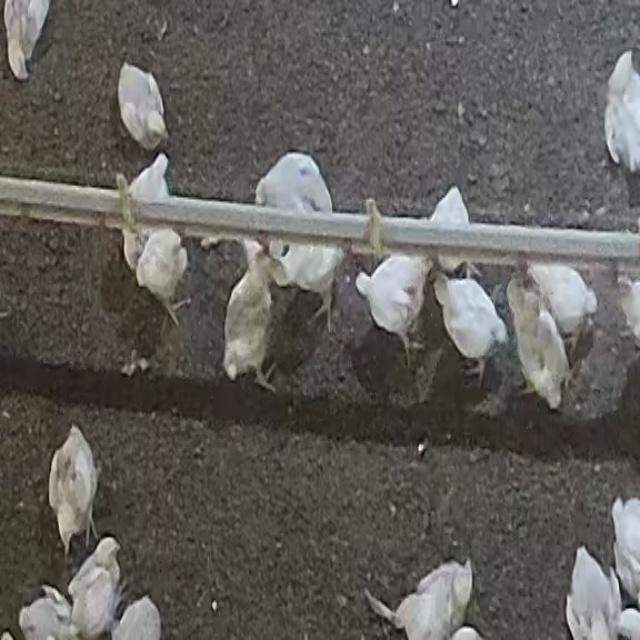chicken: (252, 207, 342, 323), (365, 557, 474, 639), (431, 269, 508, 383), (219, 252, 283, 387), (509, 284, 569, 408), (49, 424, 100, 558), (357, 240, 425, 340), (259, 152, 337, 235), (530, 263, 597, 355), (67, 540, 122, 638), (117, 150, 167, 254), (563, 547, 619, 639), (140, 211, 191, 307), (602, 50, 638, 172), (427, 186, 474, 278), (119, 61, 163, 152), (4, 1, 54, 80), (611, 497, 639, 602), (18, 591, 71, 640)
